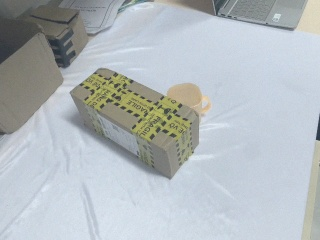box: (72, 69, 199, 178), (1, 11, 62, 135), (54, 1, 125, 36)
cup: (167, 83, 212, 120)
